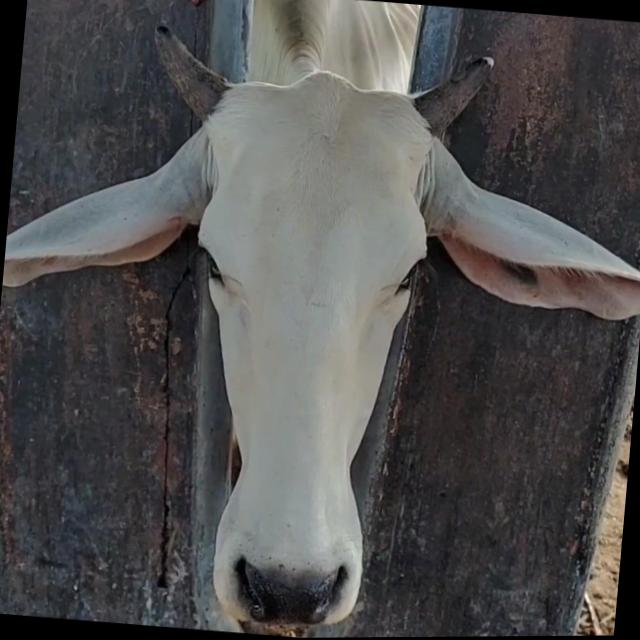cowFace: (169, 63, 441, 639)
